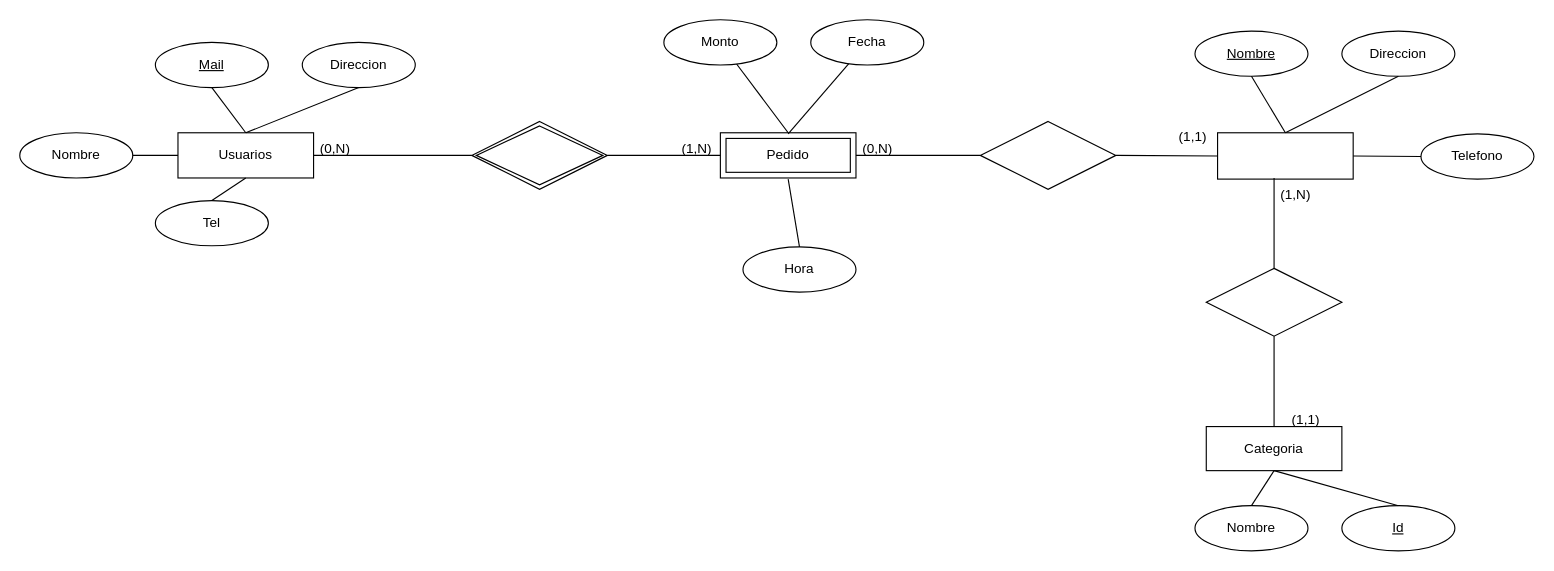
Image size: 1554x571. Some labels were removed from this diagram. The box of each missing label's shape, as (x1, y1, x2, y2) in pixels:
hace: (471, 120, 607, 189)
Negocios: (1216, 132, 1353, 179)
tiene: (1205, 267, 1342, 336)
viene: (979, 120, 1116, 189)
